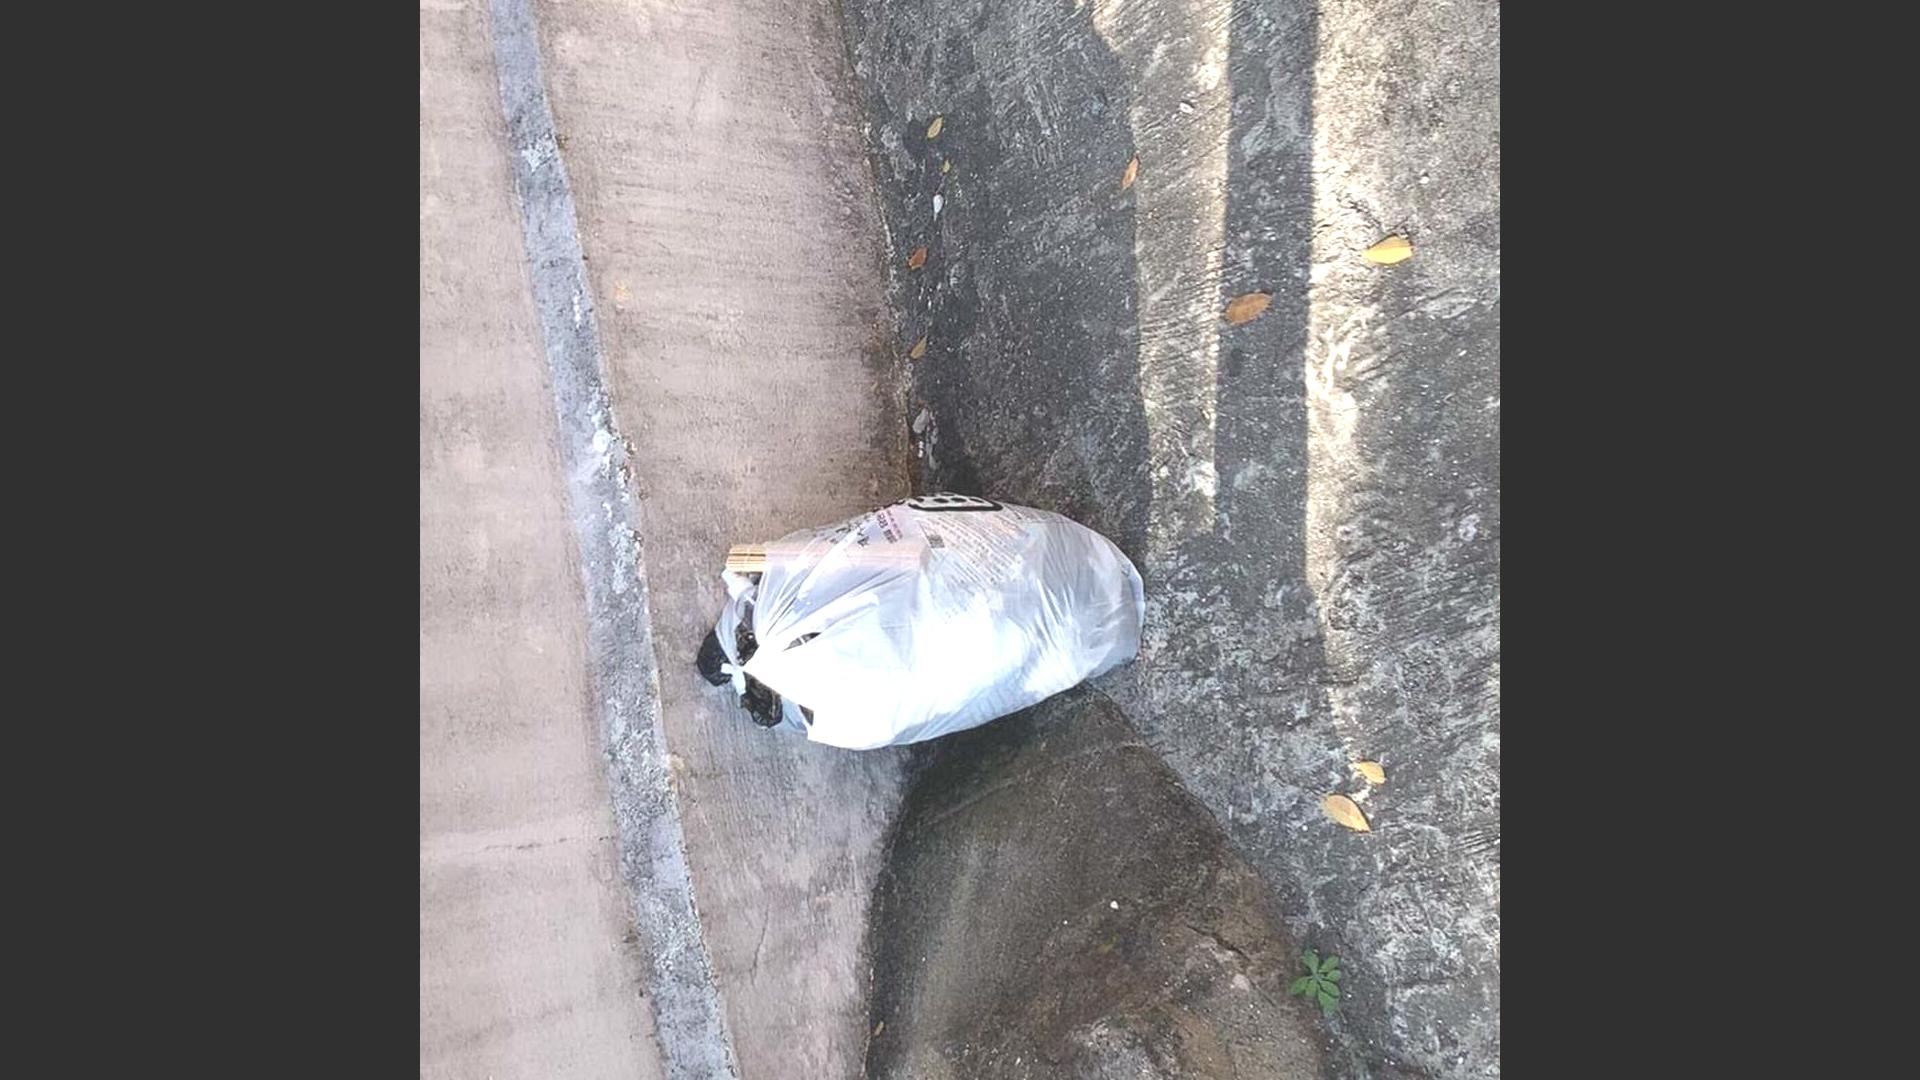white_bag: (666, 468, 1158, 775)
